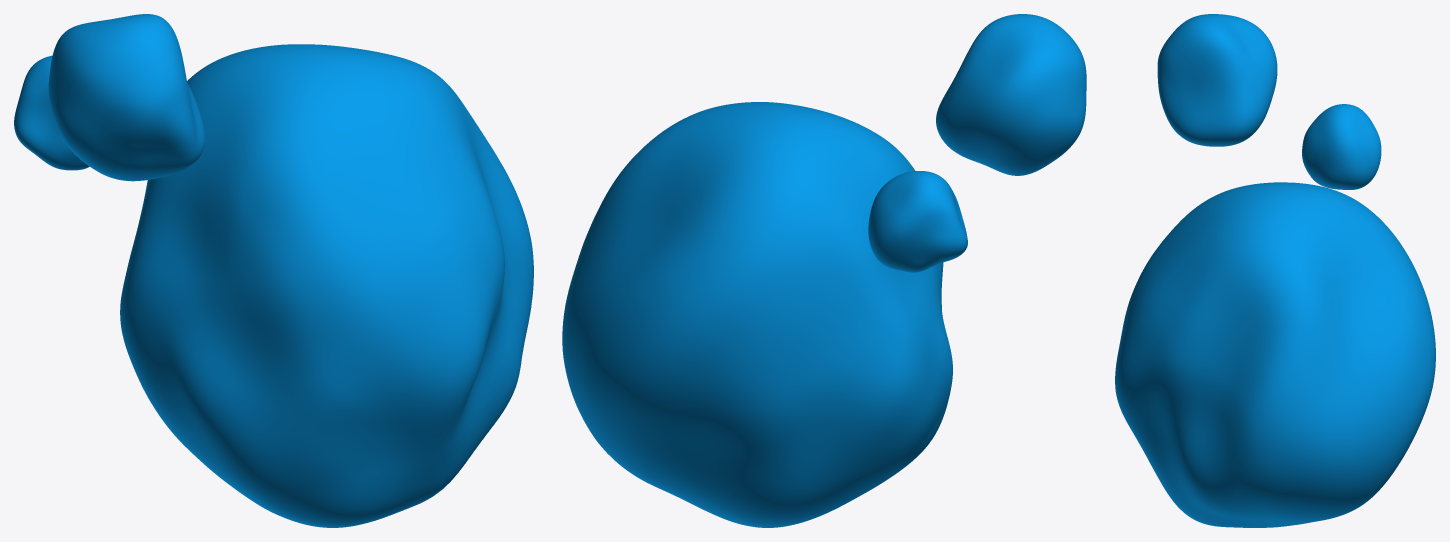
File: water.gltf
The picture shows the model from 3 angles, left to right: view 1: azimuth 30°, elevation 25°; view 2: azimuth 150°, elevation 25°; view 3: azimuth 270°, elevation 25°; orthographic projection. The views are drawn at different scales.
Visible parts, largest first — view 1: Sphere, Sphere.001, Sphere.002; view 2: Sphere, Sphere.001, Sphere.002; view 3: Sphere, Sphere.001, Sphere.002.
Boxes of the visible parts, x1,y1,x2,y2 form: Sphere: (120,44,533,527); Sphere.001: (48,14,204,181); Sphere.002: (14,55,89,170); Sphere: (562,102,952,527); Sphere.001: (936,14,1086,175); Sphere.002: (868,171,967,272); Sphere: (1115,182,1435,527); Sphere.001: (1157,14,1277,146); Sphere.002: (1302,104,1381,189).
Size of the model in its own units: 2.79 by 3.04 by 2.1.
